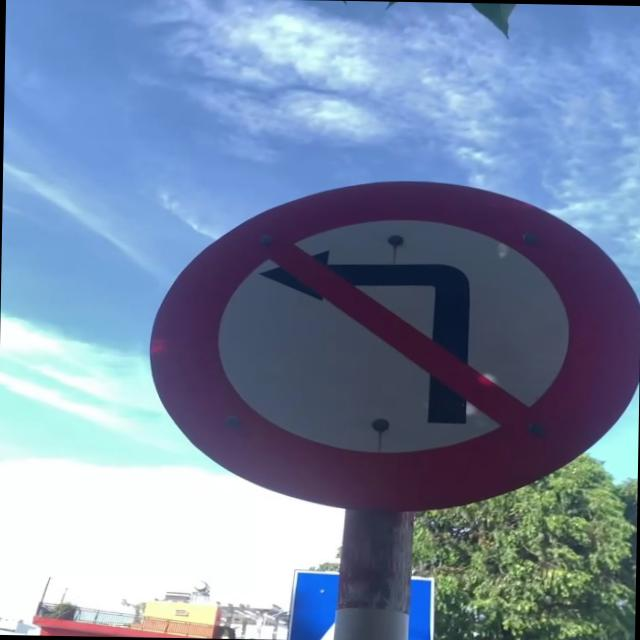Cam_Re_Trai: (146, 170, 640, 528)
